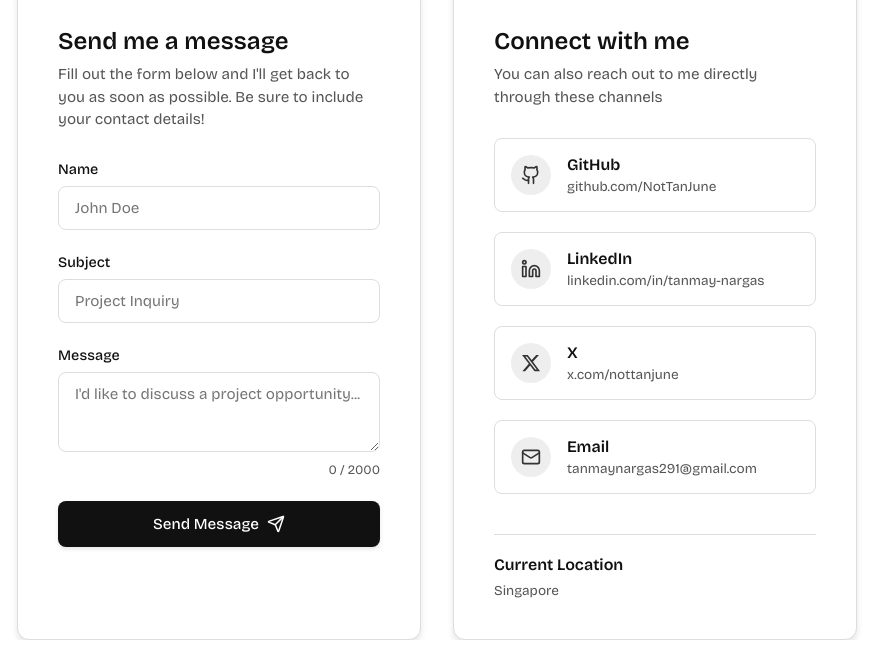
it: message counter is described by the textarea and tracks length without a live region
(page scrolled)
Expected: the text "0 / 2000" is shown, [328,462,380,477]
In the text box labelled "Message": (219, 412) [58,372,380,452], type "hello"
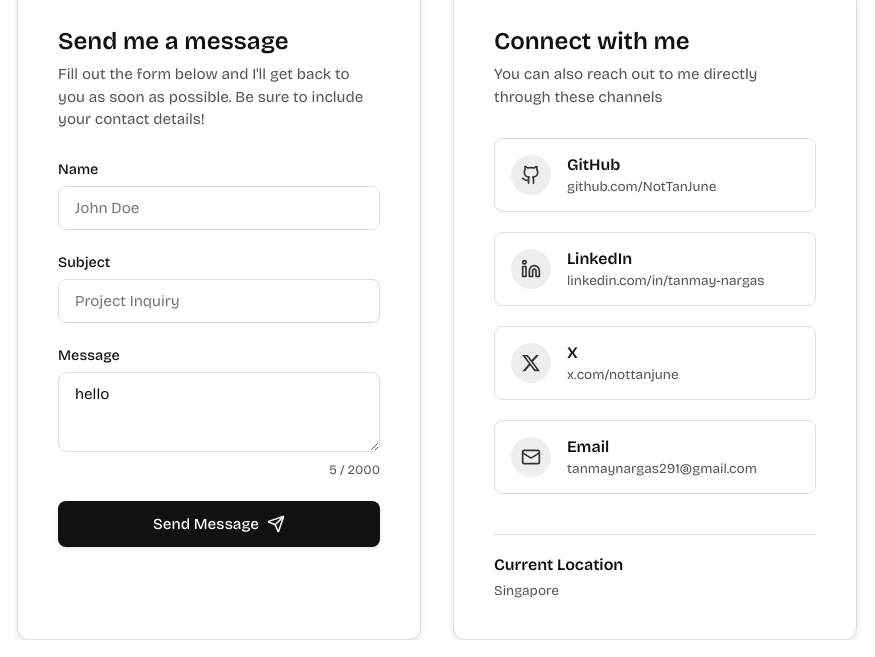
Expected: the text "5 / 2000" is shown, [329,462,380,477]
